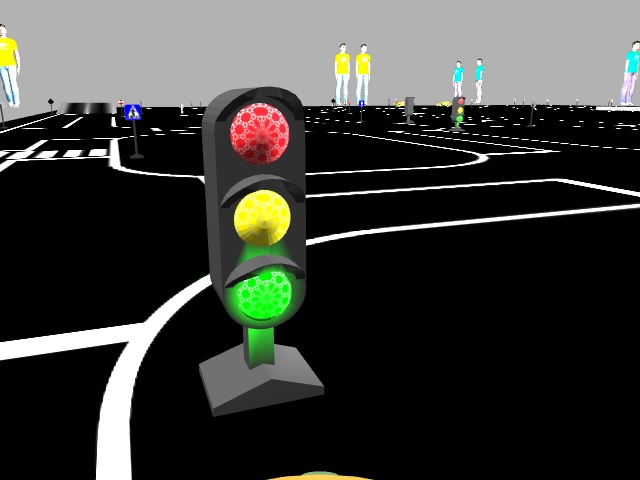Crosswalk: (125, 103, 140, 119)
TrafficLight: (205, 85, 309, 323)
